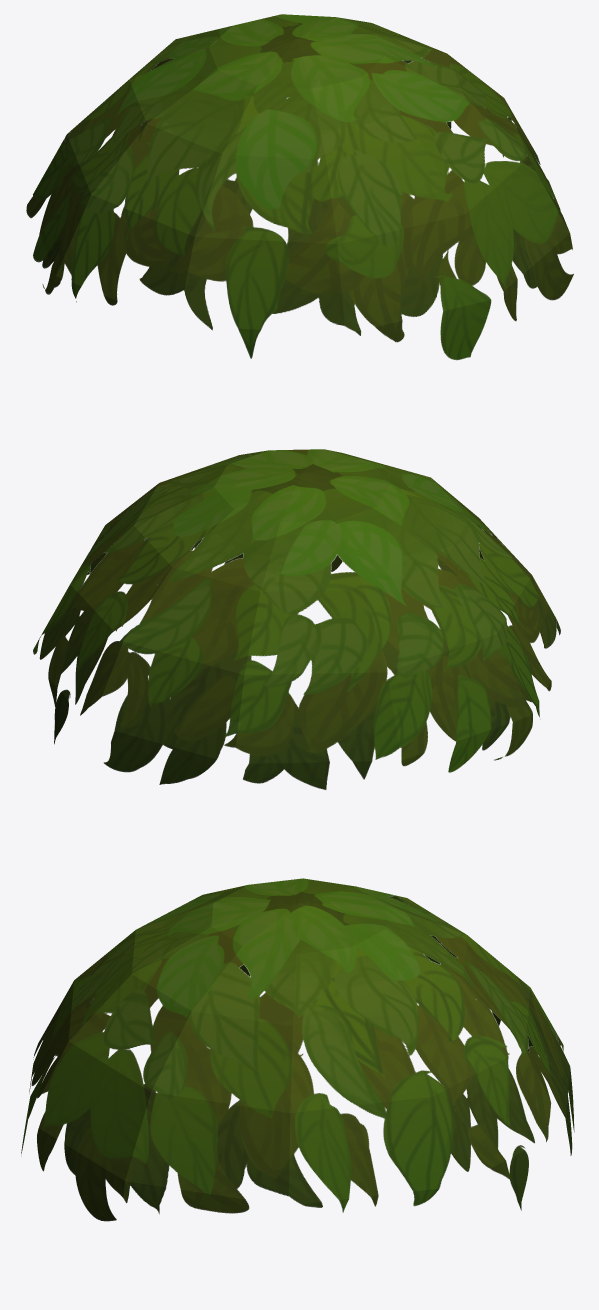
The model's file is SM_Bush_02.fbx.
3 views of the same model, one above another, from view 1: azimuth 30°, elevation 25°; view 2: azimuth 150°, elevation 25°; view 3: azimuth 270°, elevation 25° (orthographic). The views are drawn at different scales.
Visible parts, largest first — view 1: pSphere23; view 2: pSphere23; view 3: pSphere23.
Part boxes in pixels (x1,y1,x2,y2): pSphere23: (26, 14, 573, 360); pSphere23: (33, 449, 560, 789); pSphere23: (21, 878, 574, 1221).
Size of the model in its own units: 70.37 by 35.61 by 67.76.
Materials: 1 (1 with a texture image).
